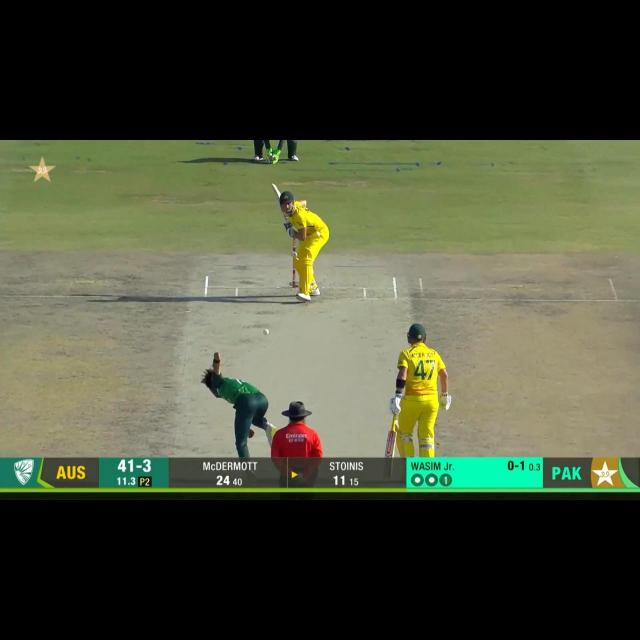bat: (383, 431, 396, 460), (272, 184, 286, 202)
toe: (272, 184, 279, 192)
